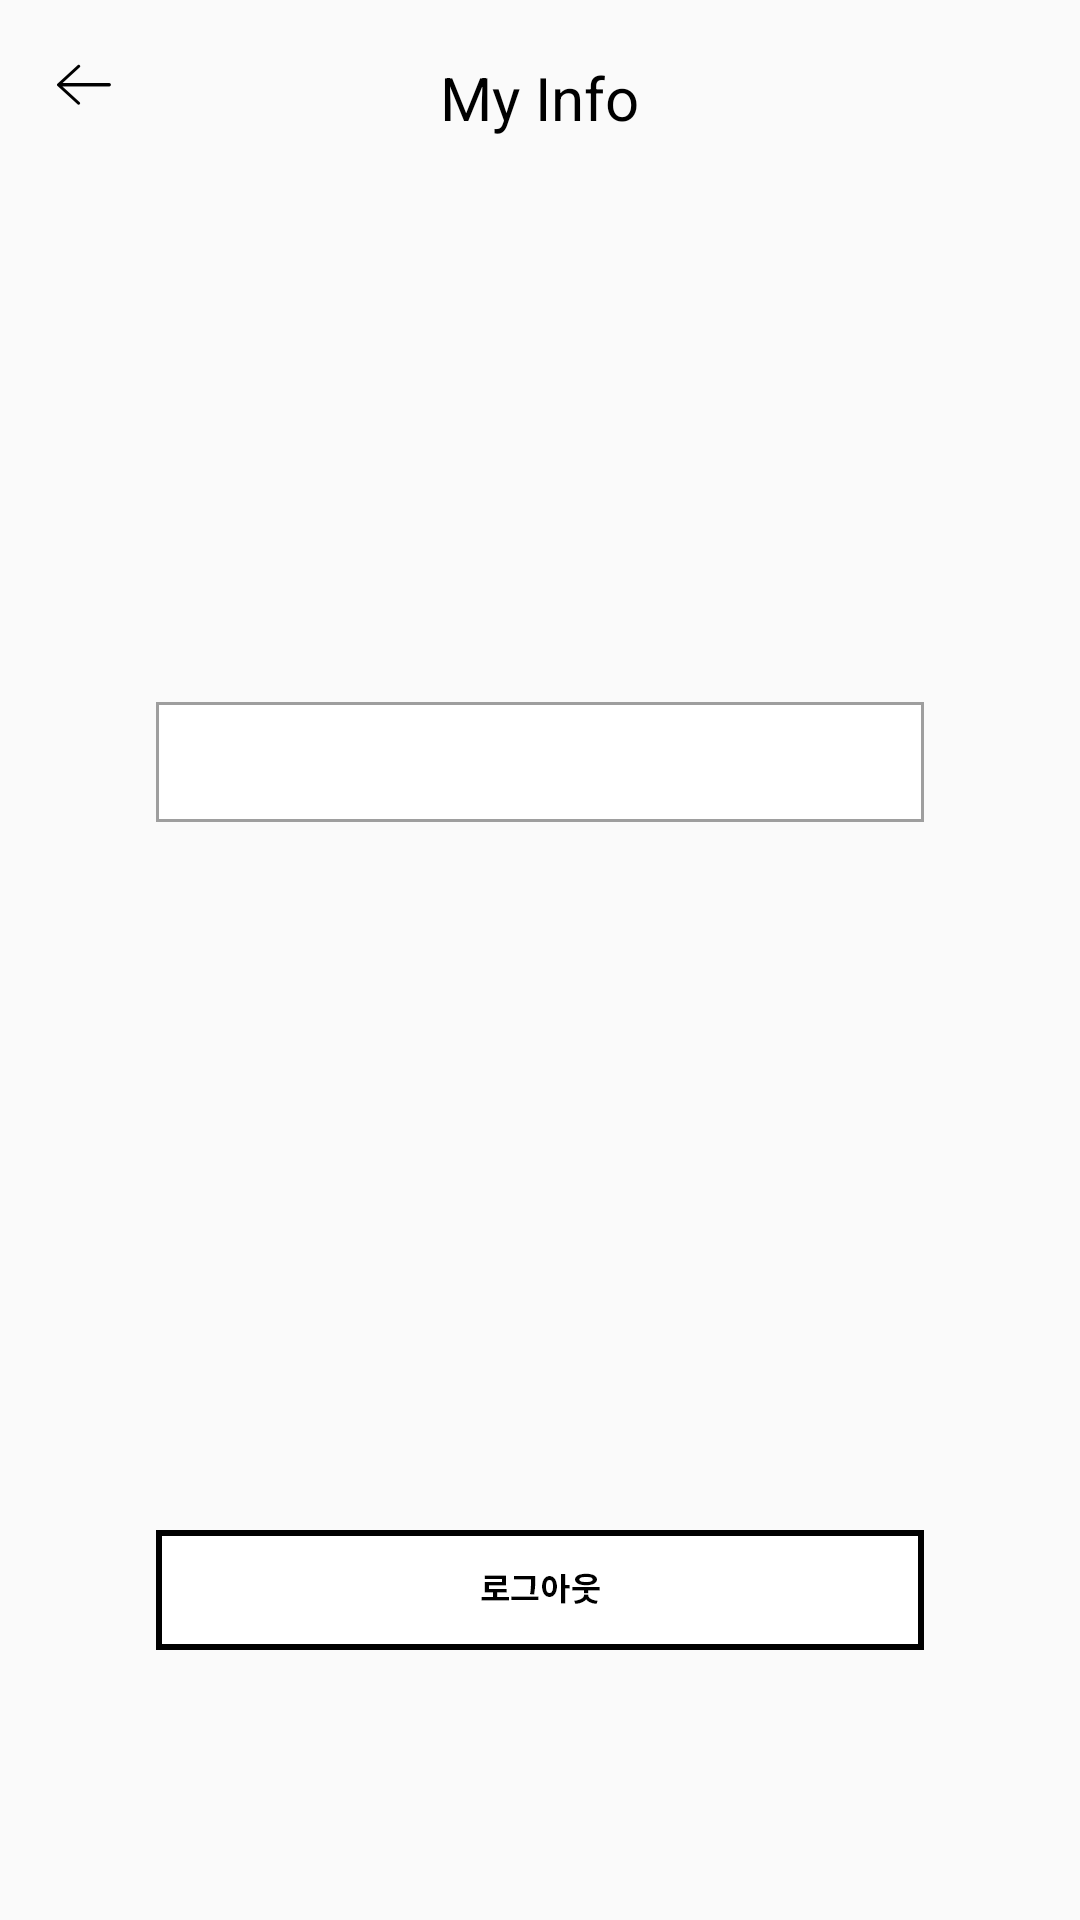

Screen size 1080×1920. Icon name, then its box in pixels as (x1,y1,x2,y2):
back: (57,64,111,105)
